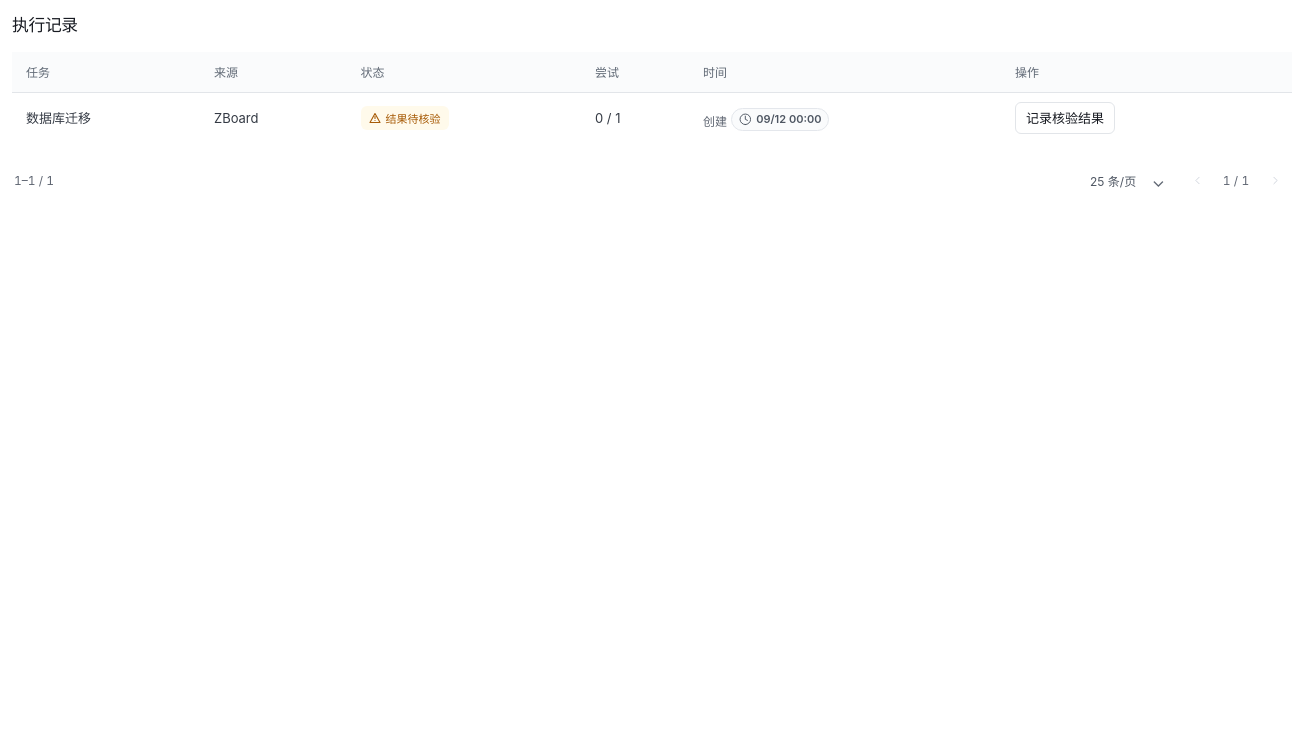
Test: explains migration verification without promising automatic cutover or retry
The width and height of the screenshot is (1304, 732).
Click the button "记录核验结果" at (1065, 118), box [1015, 102, 1115, 134]
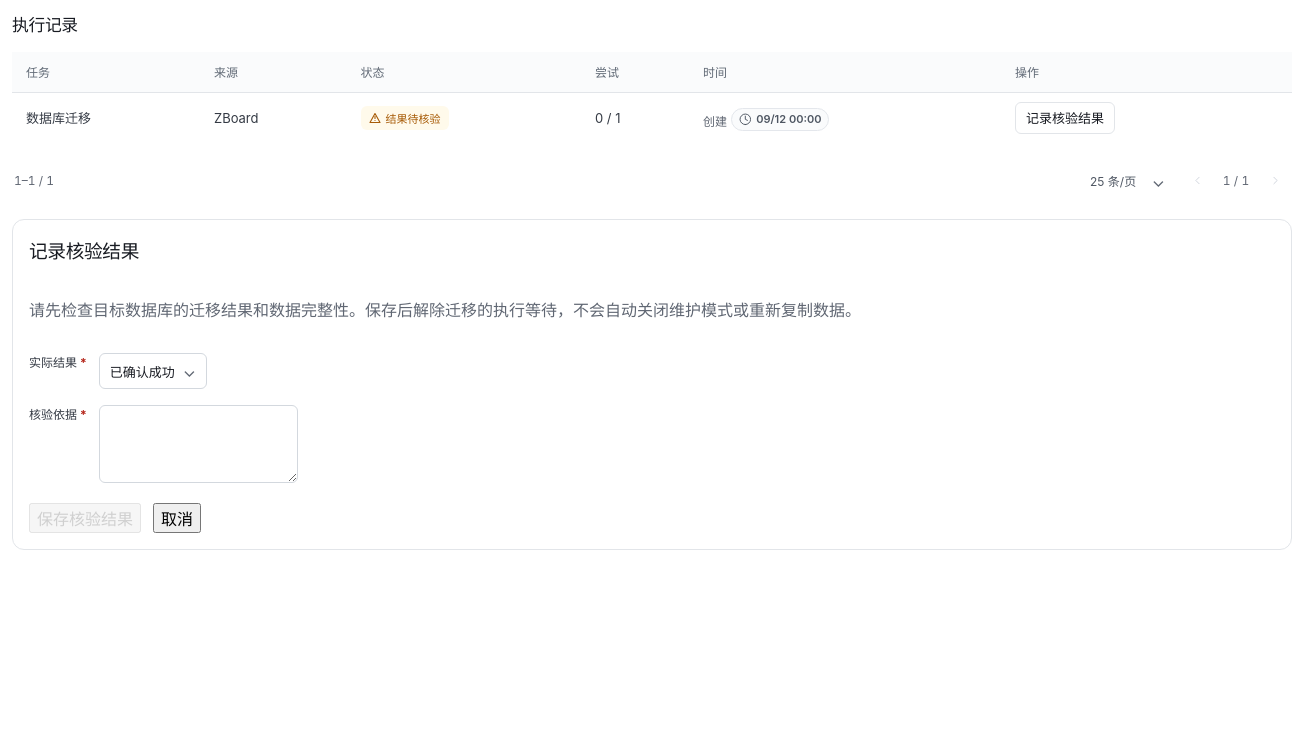
Expected: the text "目标数据库的迁移结果和数据完整性" is shown, [29, 300, 861, 320]
Expected: the text "不会自动关闭维护模式或重新复制数据" is shown, [29, 300, 861, 320]
